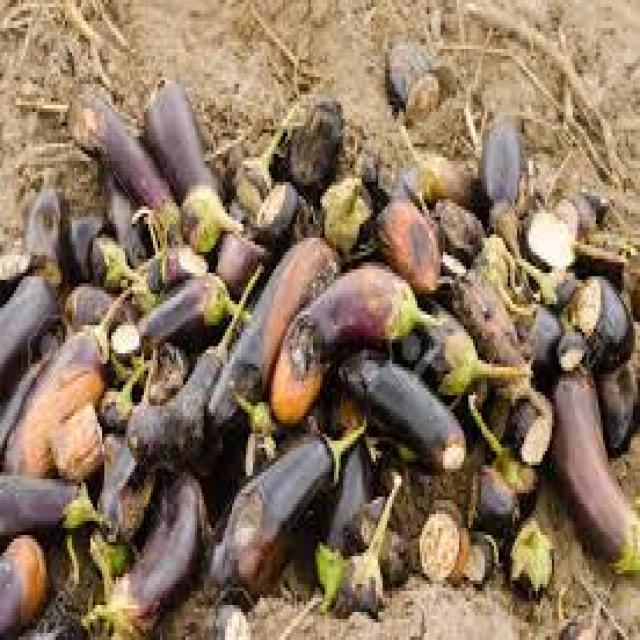organic waste: (202, 420, 368, 605), (123, 259, 267, 465), (264, 255, 443, 420), (2, 283, 130, 483), (206, 234, 338, 423), (79, 465, 206, 637), (62, 84, 181, 248), (547, 364, 638, 574), (334, 339, 464, 472), (211, 91, 295, 294), (438, 252, 536, 398), (392, 290, 522, 399), (97, 339, 160, 546), (313, 384, 369, 608), (0, 269, 60, 472), (144, 74, 227, 200), (466, 381, 540, 504), (332, 465, 394, 609), (374, 192, 441, 298), (271, 91, 341, 192), (137, 273, 248, 336), (559, 270, 633, 360), (401, 126, 482, 203), (338, 493, 412, 577), (480, 112, 526, 245), (0, 468, 97, 531), (60, 280, 139, 350), (95, 158, 144, 262), (0, 528, 46, 636), (503, 286, 561, 371), (23, 178, 67, 287), (320, 168, 373, 255), (506, 245, 582, 304), (596, 350, 638, 454), (480, 231, 531, 315), (49, 398, 102, 476), (385, 38, 436, 119), (176, 185, 237, 252), (512, 294, 559, 378), (506, 514, 554, 595), (213, 228, 274, 290), (65, 206, 111, 287), (426, 192, 484, 255), (419, 500, 464, 581), (350, 129, 404, 196), (464, 465, 517, 532), (519, 200, 575, 262), (566, 231, 628, 287), (88, 227, 139, 294), (250, 175, 294, 241), (97, 360, 144, 420), (508, 388, 545, 451), (457, 525, 494, 584), (146, 336, 190, 384), (0, 241, 39, 293), (550, 189, 594, 234), (554, 325, 589, 371), (292, 185, 318, 238), (580, 189, 612, 224), (619, 262, 638, 315)
